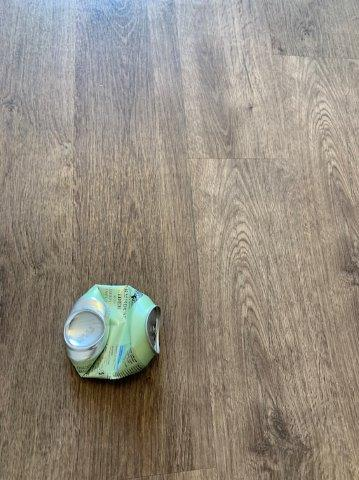kaleng: (64, 284, 159, 380)
